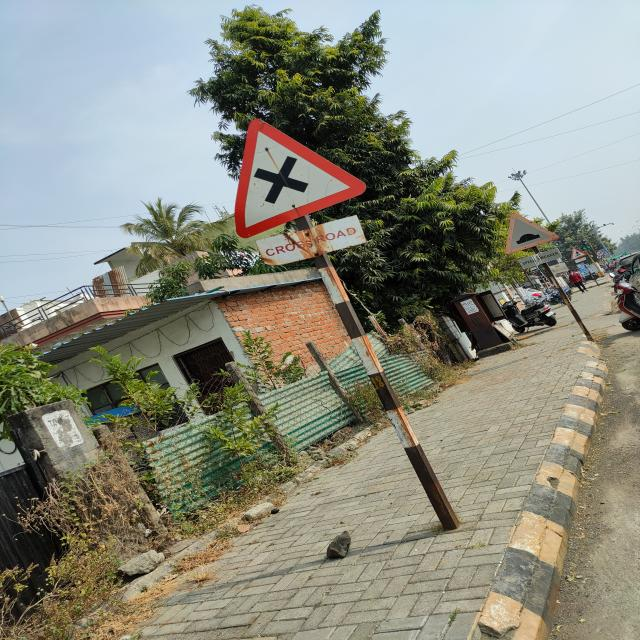cross_road: (231, 117, 367, 238)
